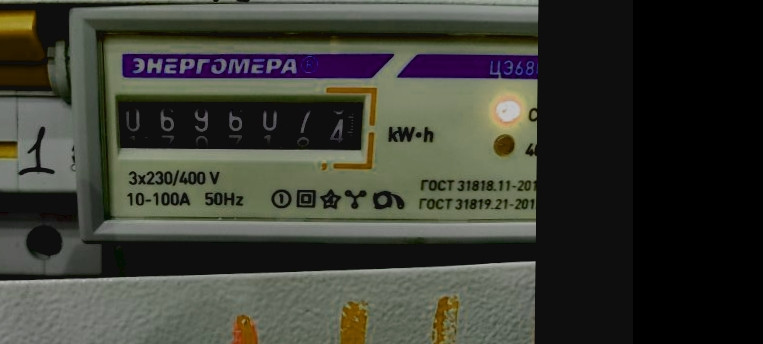0: (123, 103, 143, 132), (259, 103, 279, 131)
4: (327, 116, 345, 144)
6: (226, 103, 245, 131), (157, 104, 176, 131)
7: (294, 104, 314, 134)
9: (191, 105, 210, 133)
screen: (102, 80, 382, 170)
